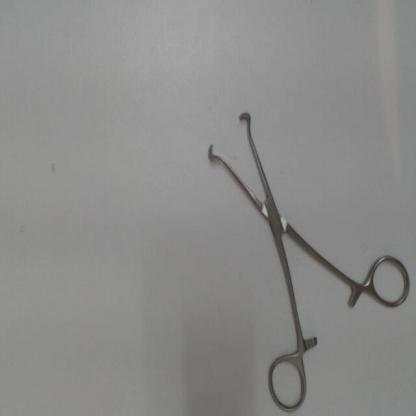Babcock Tissue Forceps: (205, 109, 413, 412)
